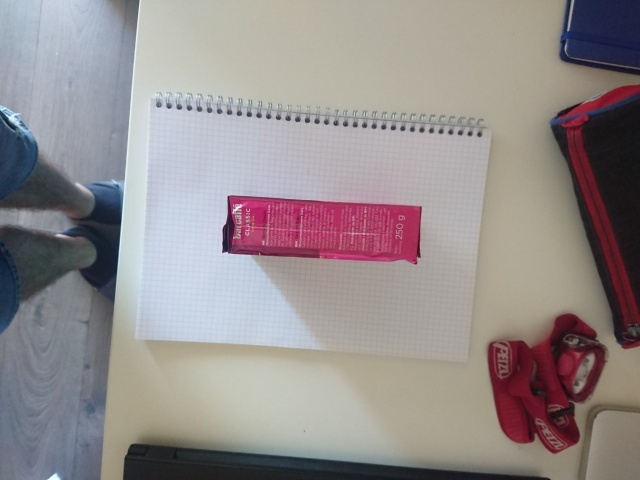Barcaffe Classic Original 225g: (219, 192, 425, 267)
